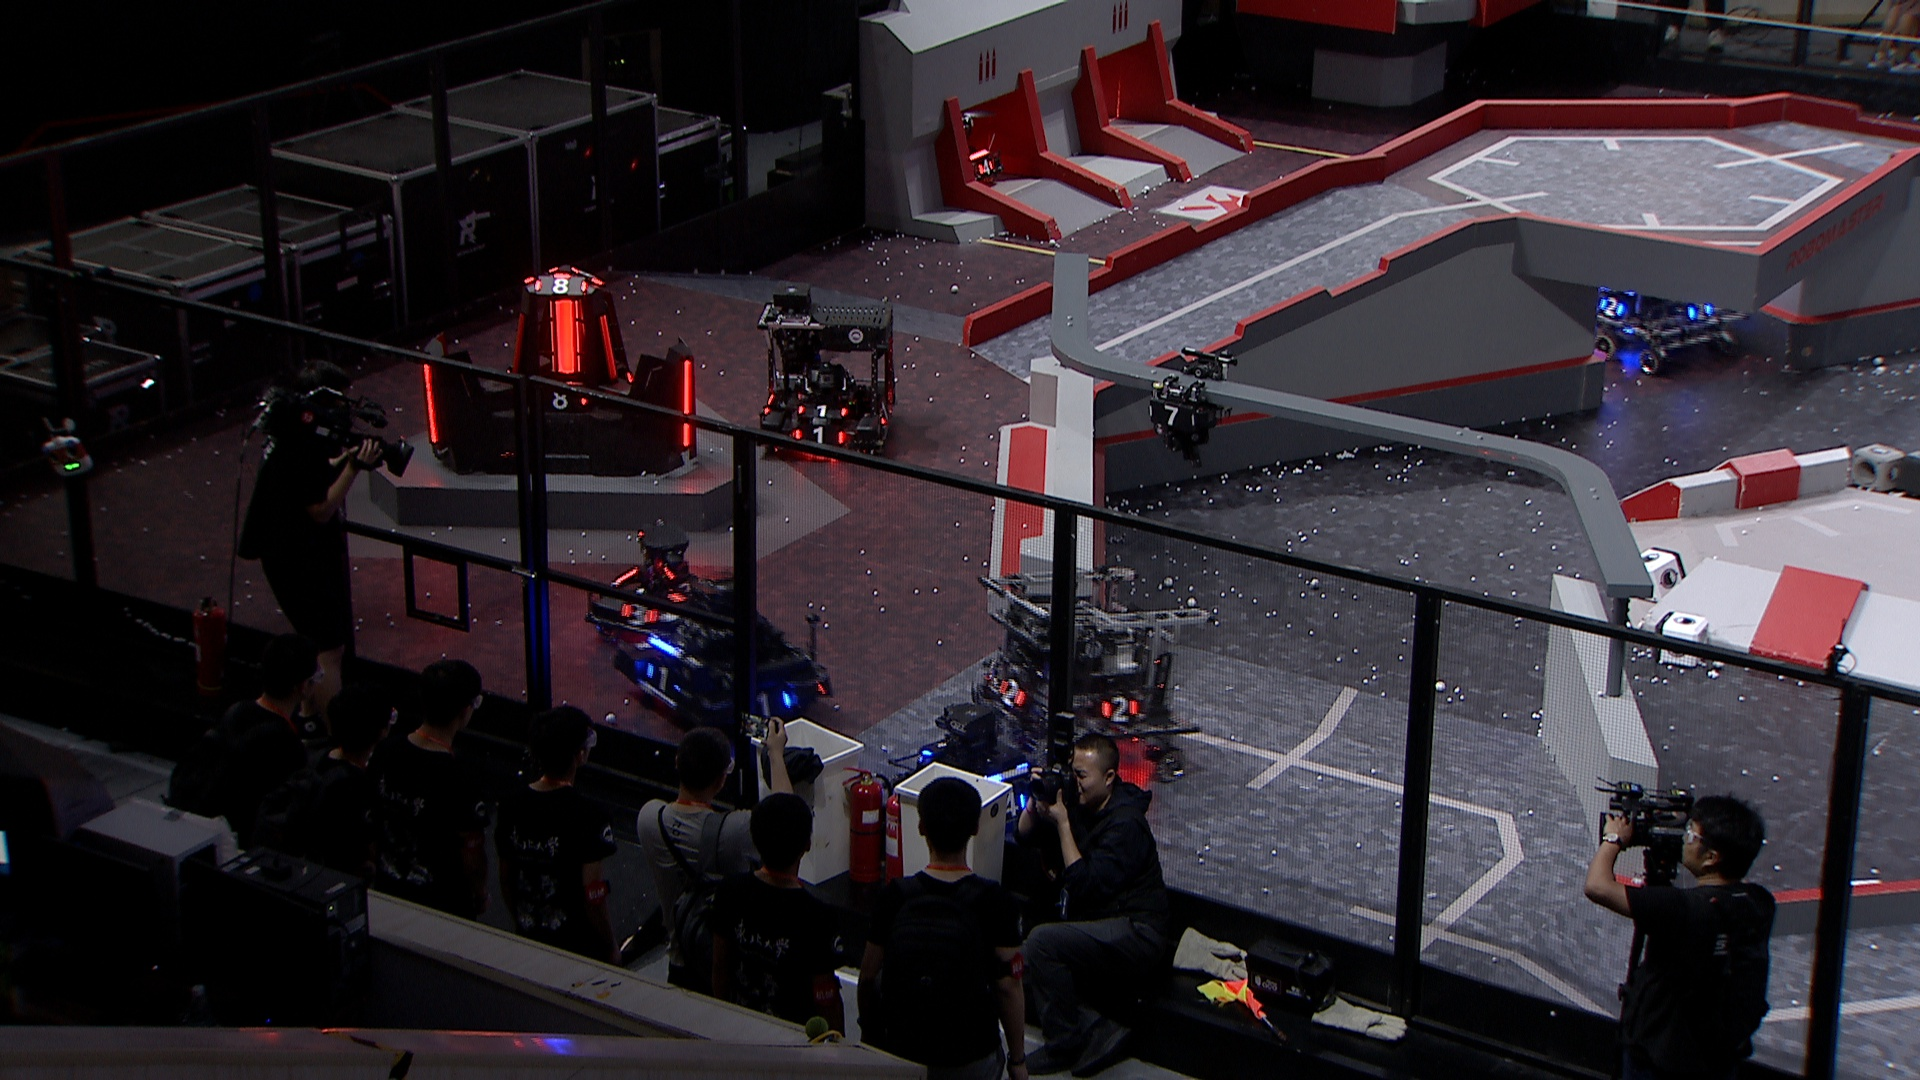armor: (547, 297, 583, 375), (419, 363, 443, 444), (680, 357, 698, 448), (596, 311, 618, 378), (646, 662, 684, 698), (746, 688, 793, 717), (793, 400, 851, 422), (789, 425, 849, 446), (535, 386, 588, 410), (1147, 404, 1196, 429), (533, 277, 591, 297), (1098, 695, 1139, 723), (510, 310, 526, 372), (618, 603, 659, 626), (998, 676, 1027, 708), (1000, 790, 1029, 818), (1687, 301, 1718, 323), (1600, 294, 1626, 315), (975, 157, 994, 177), (878, 400, 893, 425)
base: (415, 261, 698, 479)
car: (965, 560, 1215, 783), (621, 570, 831, 740), (1542, 206, 1745, 375), (750, 278, 899, 458), (887, 699, 1060, 844), (585, 520, 723, 641), (899, 105, 1002, 199)
watcher: (1139, 344, 1236, 469)
